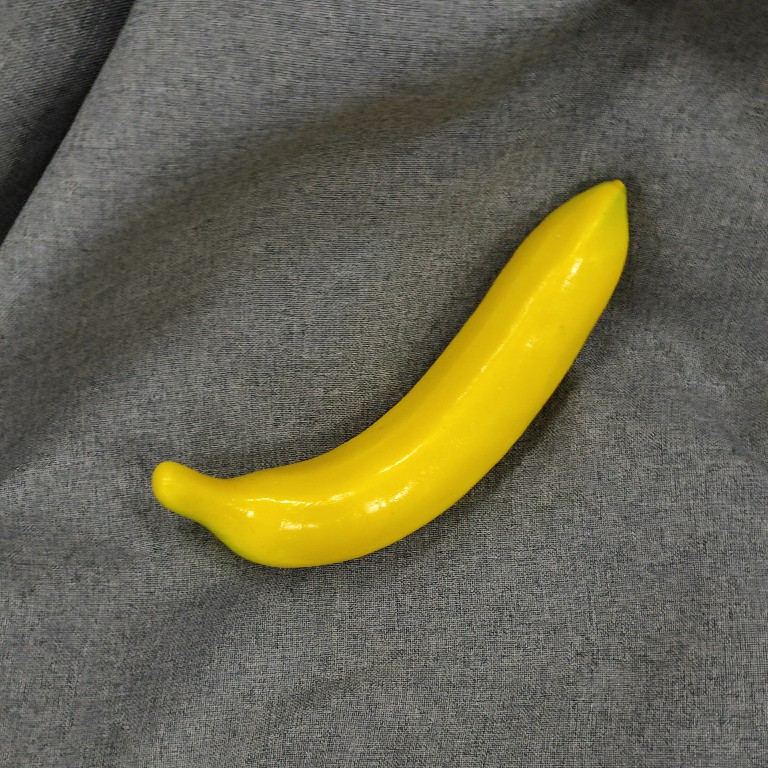fruit_banana: (148, 172, 633, 574)
